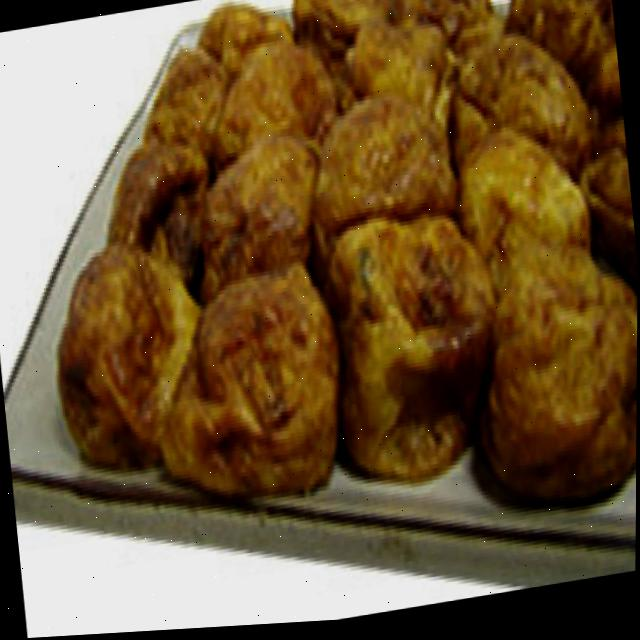炸货点心: (21, 0, 640, 607)
